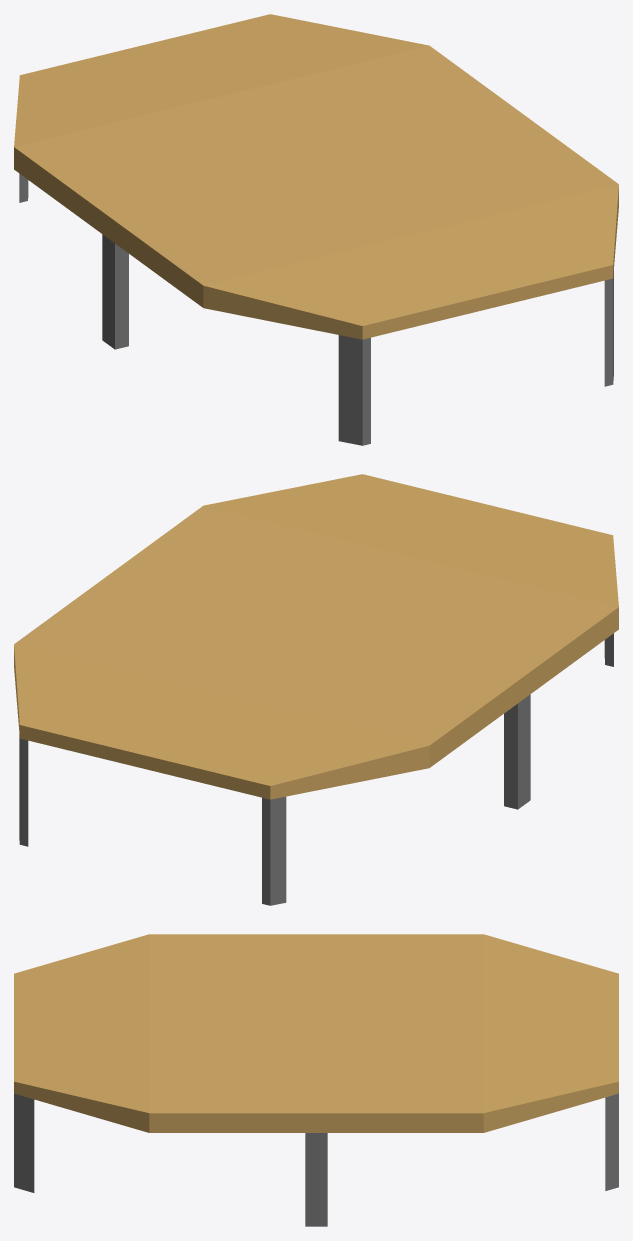
Rendered from RoundTable.fbx.
The picture shows the model from 3 angles, top to bottom: view 1: azimuth 30°, elevation 25°; view 2: azimuth 150°, elevation 25°; view 3: azimuth 270°, elevation 25°; orthographic projection. The views are drawn at different scales.
Parts seen in each view (by area): view 1: RoundTable; view 2: RoundTable; view 3: RoundTable.
Boxes of the visible parts, box(x1,y1,x2,y2) form: RoundTable: box(14, 14, 618, 445); RoundTable: box(14, 474, 618, 905); RoundTable: box(14, 934, 618, 1226).
Size of the model in its own units: 332 by 98.13 by 474.
